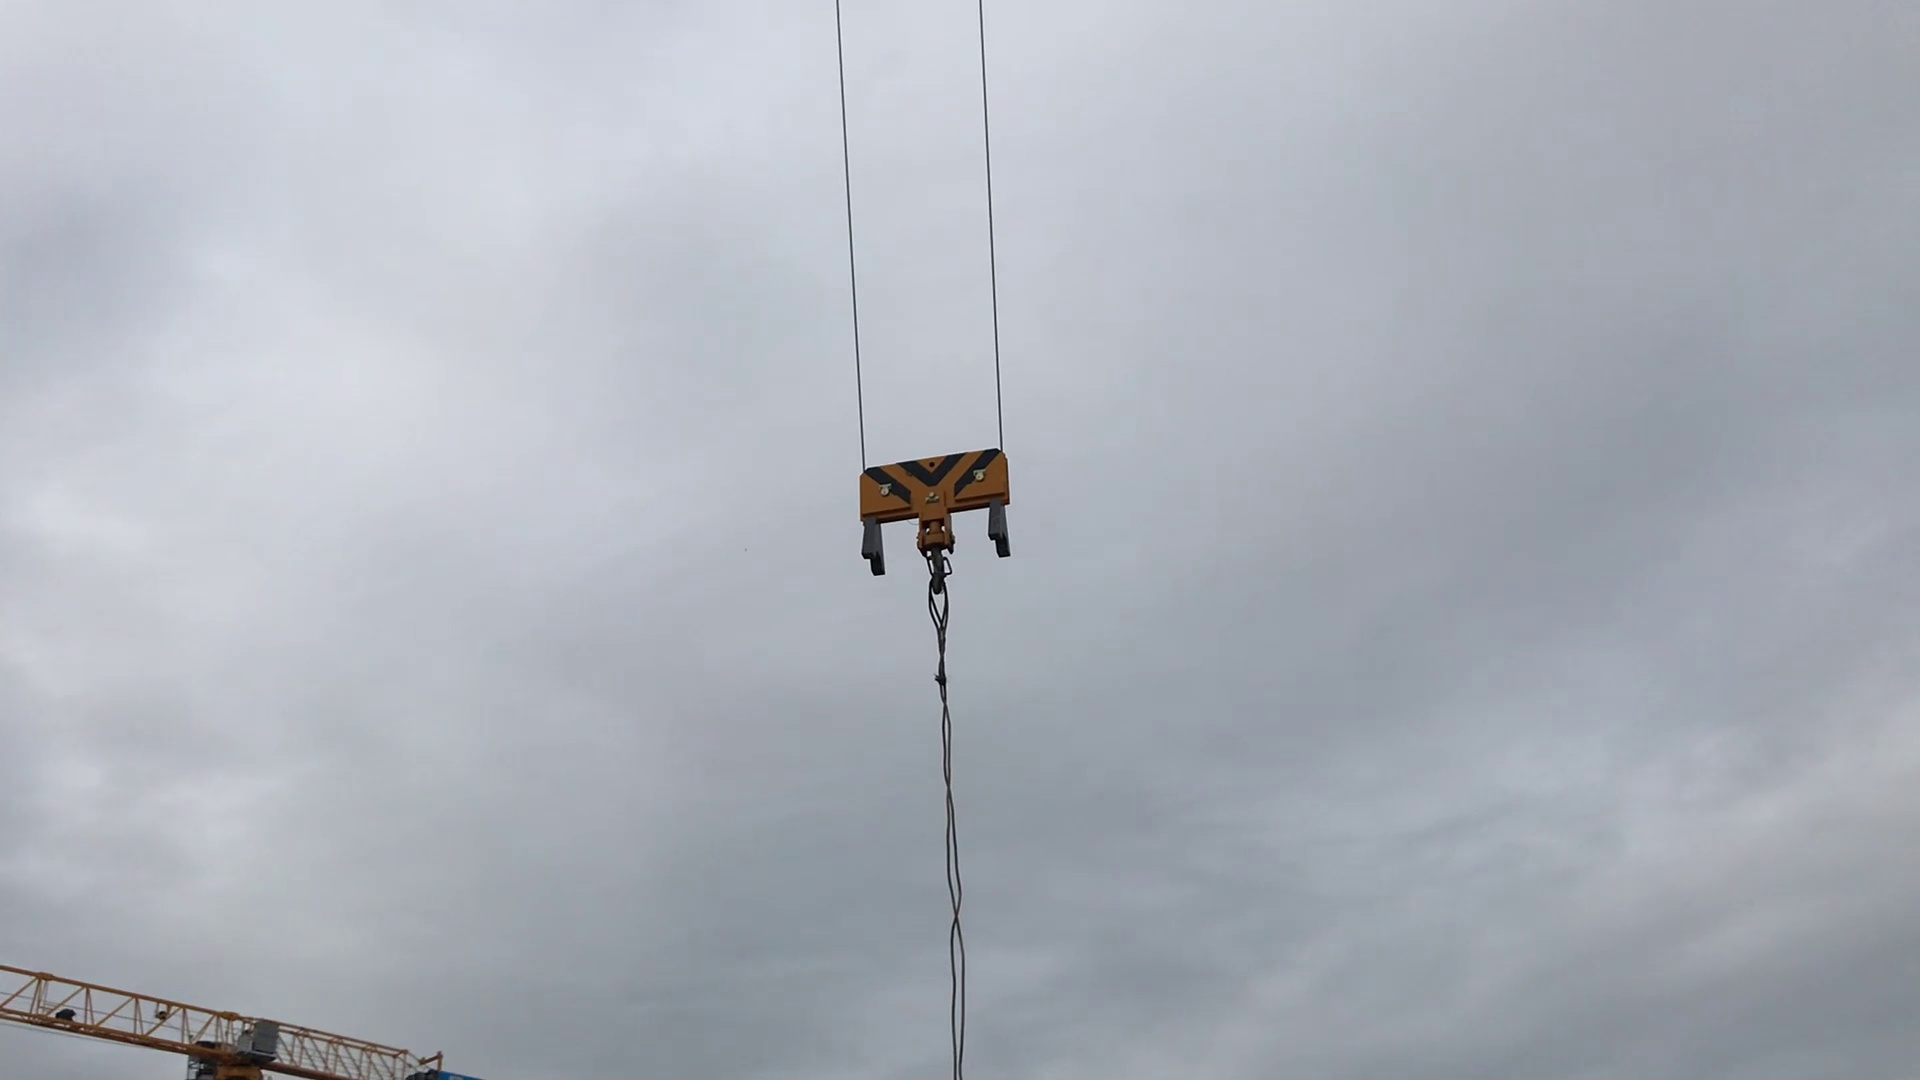hook: (847, 436, 1033, 595)
